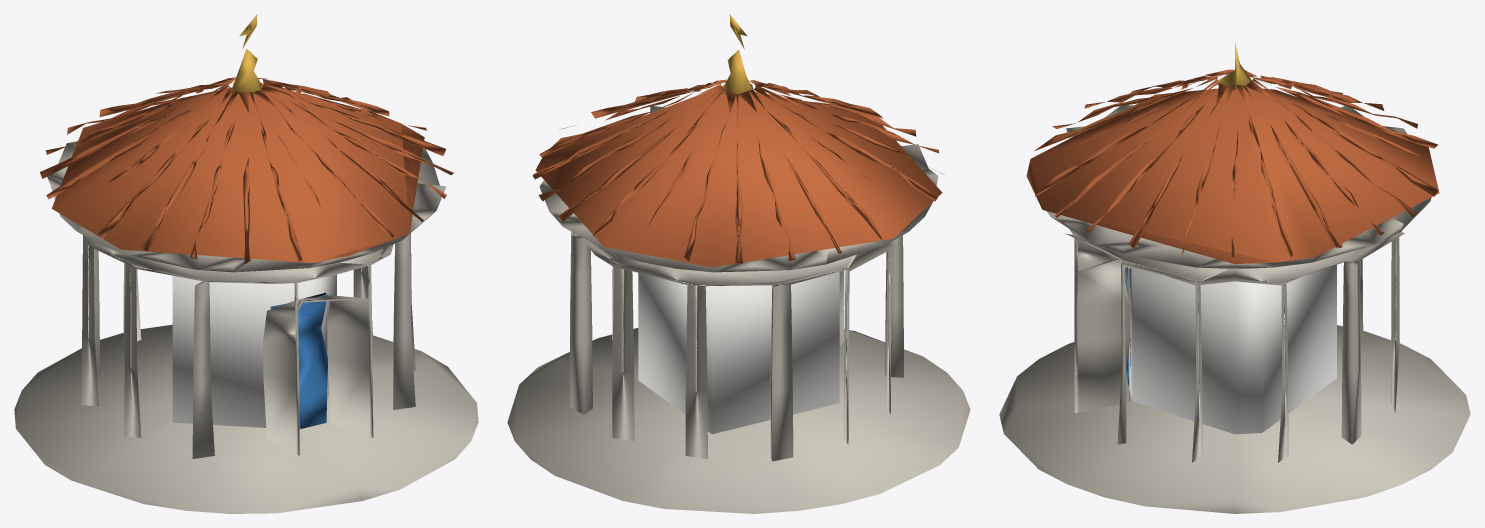
Rendered from civic_tholos.glb.
3 renders of one model, left to right at view 1: azimuth 30°, elevation 25°; view 2: azimuth 150°, elevation 25°; view 3: azimuth 270°, elevation 25°, orthographic.
Parts seen in each view (by area): view 1: step, terracotta0, marble, terracotta1, hall, azure_wood, gold; view 2: step, terracotta0, marble, hall, terracotta1, gold; view 3: step, terracotta0, hall, marble, terracotta1, gold.
Part boxes in pixels (box(x1,y1,x2,y2)): step: box(14, 324, 478, 513); terracotta0: box(52, 83, 424, 262); marble: box(47, 141, 446, 458); terracotta1: box(40, 77, 453, 264); hall: box(172, 274, 336, 428); azure_wood: box(270, 294, 327, 428); gold: box(231, 14, 261, 96); step: box(507, 328, 970, 513); terracotta0: box(535, 85, 942, 267); marble: box(539, 106, 938, 461); hall: box(638, 272, 839, 434); terracotta1: box(533, 79, 944, 263); gold: box(721, 14, 753, 96); step: box(999, 325, 1470, 513); terracotta0: box(1026, 87, 1439, 264); hall: box(1129, 264, 1336, 434); marble: box(1046, 105, 1431, 462); terracotta1: box(1034, 69, 1438, 257); gold: box(1217, 43, 1251, 90).
Bounding box in the file's own units: 7.8 × 7.4 × 7.8.
